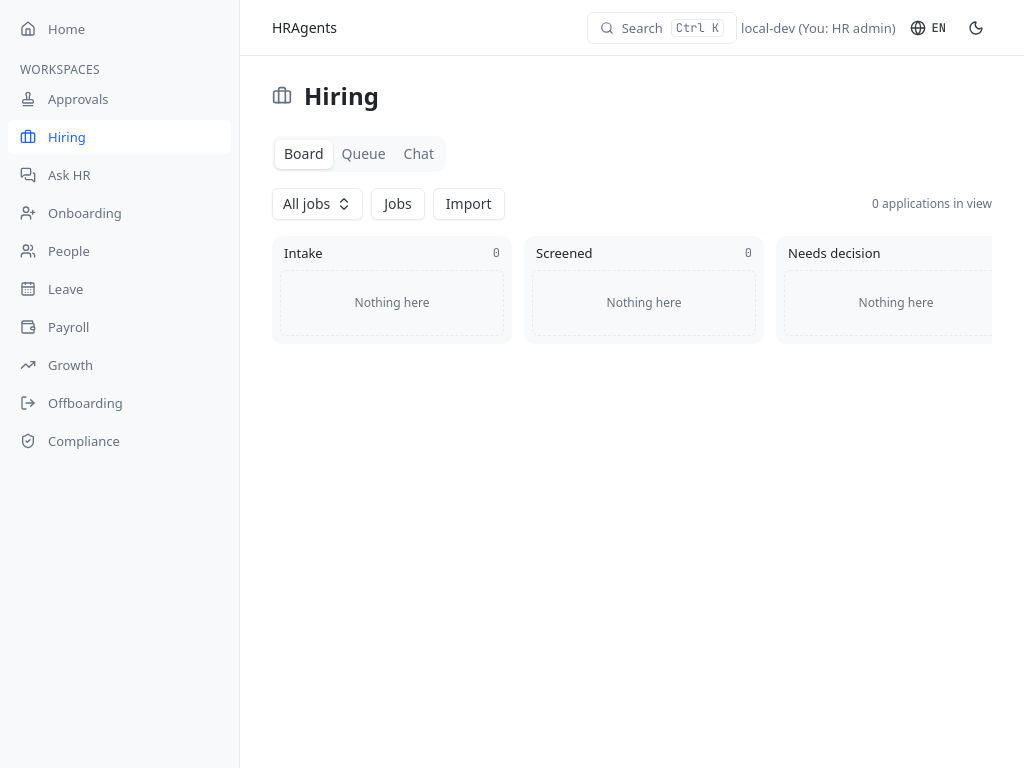
Test case: AppRoutes › renders the chat room instead of a placeholder
Click the tab "Chat" at (419, 154), box [395,140,443,168]
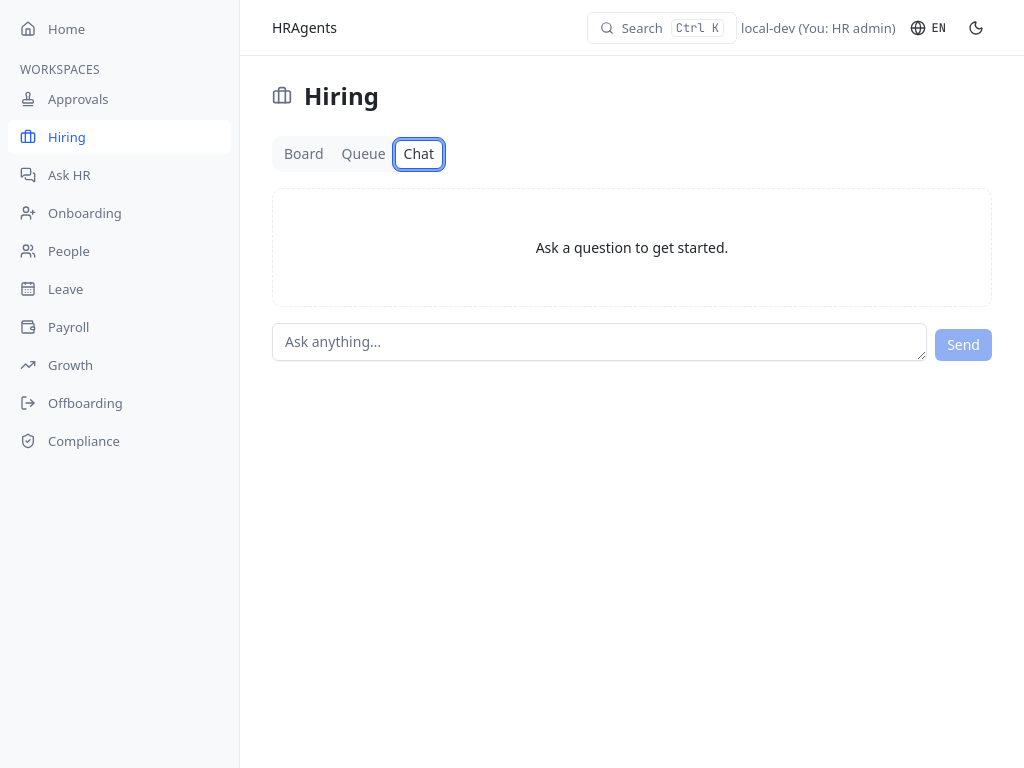
Result: the text box labelled "Ask anything…" is shown at [272,323,927,361]
Result: the button "Send" is shown at [935,329,992,361]
